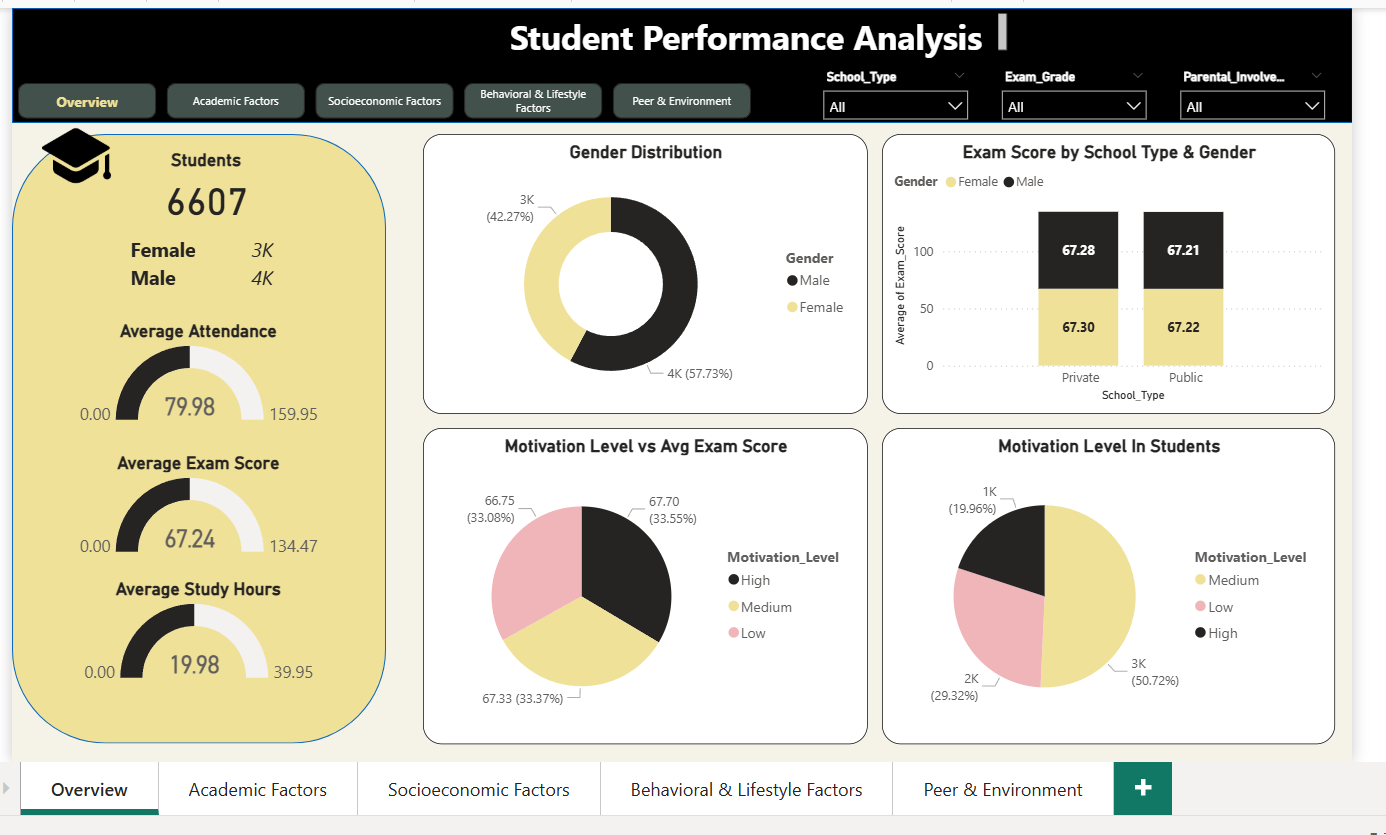

This screenshot's page, from the dashboard's own definition file:
{"tool":"powerbi","page":{"name":"Overview","canvas":[1280,720],"ordinal":0},"visuals":[{"type":"shape","box":[0,120.9,357.2,582.1],"z":0},{"type":"group","id":"g1","title":"Group 1","box":[5.6,186.4,265.6,108.2],"z":0,"group":"g2"},{"type":"donutChart","title":"Gender Distribution","fields":{"Category":["Students.Gender"],"Y":["Students.Student Count"]},"box":[392.9,120.9,424.7,267.2],"z":1000},{"type":"card","title":"Students","fields":{"Values":["Students.Student Count"]},"box":[36.2,134.1,299,74.8],"z":1000,"group":"g2"},{"type":"cardVisual","title":"Students","fields":{"Data":["Students.Student Count"]},"box":[5.6,186.4,265.6,108.2],"z":1000,"group":"g1"},{"type":"columnChart","title":"Exam Score by School Type & Gender","fields":{"Category":["Students.School_Type"],"Y":["Avg(Students.Exam_Score)"],"Series":["Students.Gender"]},"box":[830.3,120.9,432.6,267.2],"z":2000},{"type":"gauge","fields":{"Y":["Students.Average Study Hours"]},"box":[15.2,544.5,324.5,105],"z":2000,"group":"g2"},{"type":"pieChart","title":"Motivation Level vs Avg Exam Score","fields":{"Category":["Students.Motivation_Level"],"Y":["Avg(Students.Exam_Score)"]},"box":[392.9,400.8,424.7,302.2],"z":3000},{"type":"gauge","fields":{"Y":["Students.Average Exam Score"]},"box":[15.2,423.6,324.5,105],"z":3000,"group":"g2"},{"type":"gauge","fields":{"Y":["Students.Average Attendance"]},"box":[15.5,297.8,324.5,105],"z":4000,"group":"g2"},{"type":"pieChart","title":"Motivation Level In Students","fields":{"Category":["Students.Motivation_Level"],"Y":["Students.Student Count"]},"box":[830.3,400.8,432.6,302.2],"z":4000},{"type":"shape","box":[0,0,1280.4,109.8],"z":5000},{"type":"textbox","box":[469.2,0,485.1,55.7],"z":6000},{"type":"slicer","fields":{"Values":["Students.Parental_Involvement"]},"box":[1106.5,52.5,158.1,57.3],"z":6000,"group":"g3"},{"type":"slicer","fields":{"Values":["Students.Exam_Grade"]},"box":[935.8,52.5,158.1,57.3],"z":7000,"group":"g3"},{"type":"group","id":"g2","title":"Group 2","box":[5.6,134.1,334.4,515.4],"z":7000},{"type":"slicer","fields":{"Values":["Students.School_Type"]},"box":[765.1,52.5,158.1,57.3],"z":8000,"group":"g3"},{"type":"image","box":[19.1,95.4,85.9,90.7],"z":8000},{"type":"pageNavigator","box":[6.4,71.6,704.6,35],"z":9000},{"type":"group","id":"g3","title":"Group 3","box":[765.1,52.5,499.5,57.3],"z":10000}]}

Visuals, with their boxes on the page's 1280x720 design canvas (x1, y1, x2, y2). These are canvas units, not pixel positions in the 1386x835 screenshot, which may show the page scaled, cropped or inside an application window:
shape: [x1=0, y1=121, x2=357, y2=703]
"Group 1" group: [x1=6, y1=186, x2=271, y2=295]
"Gender Distribution" donutChart: [x1=393, y1=121, x2=818, y2=388]
"Students" card: [x1=36, y1=134, x2=335, y2=209]
"Students" cardVisual: [x1=6, y1=186, x2=271, y2=295]
"Exam Score by School Type & Gender" columnChart: [x1=830, y1=121, x2=1263, y2=388]
gauge - Students.Average Study Hours: [x1=15, y1=544, x2=340, y2=650]
"Motivation Level vs Avg Exam Score" pieChart: [x1=393, y1=401, x2=818, y2=703]
gauge - Students.Average Exam Score: [x1=15, y1=424, x2=340, y2=529]
gauge - Students.Average Attendance: [x1=16, y1=298, x2=340, y2=403]
"Motivation Level In Students" pieChart: [x1=830, y1=401, x2=1263, y2=703]
shape: [x1=0, y1=0, x2=1280, y2=110]
textbox: [x1=469, y1=0, x2=954, y2=56]
slicer - Students.Parental_Involvement: [x1=1106, y1=52, x2=1265, y2=110]
slicer - Students.Exam_Grade: [x1=936, y1=52, x2=1094, y2=110]
"Group 2" group: [x1=6, y1=134, x2=340, y2=650]
slicer - Students.School_Type: [x1=765, y1=52, x2=923, y2=110]
image: [x1=19, y1=95, x2=105, y2=186]
pageNavigator: [x1=6, y1=72, x2=711, y2=107]
"Group 3" group: [x1=765, y1=52, x2=1265, y2=110]
